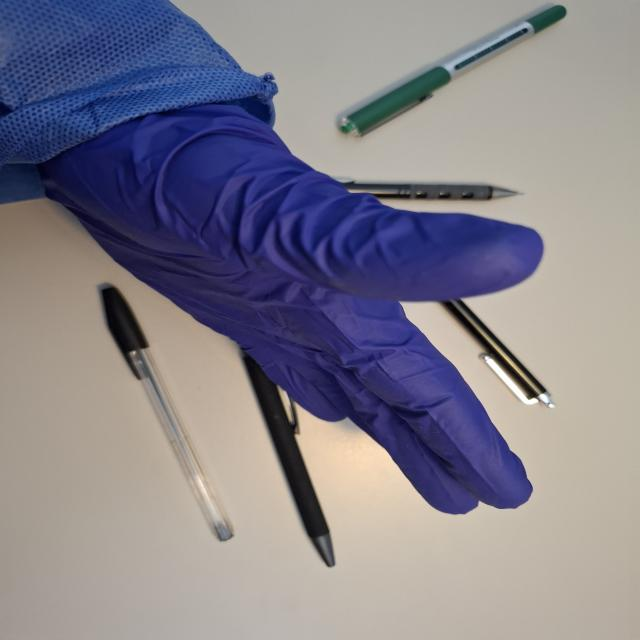glove_on: (30, 82, 552, 519)
